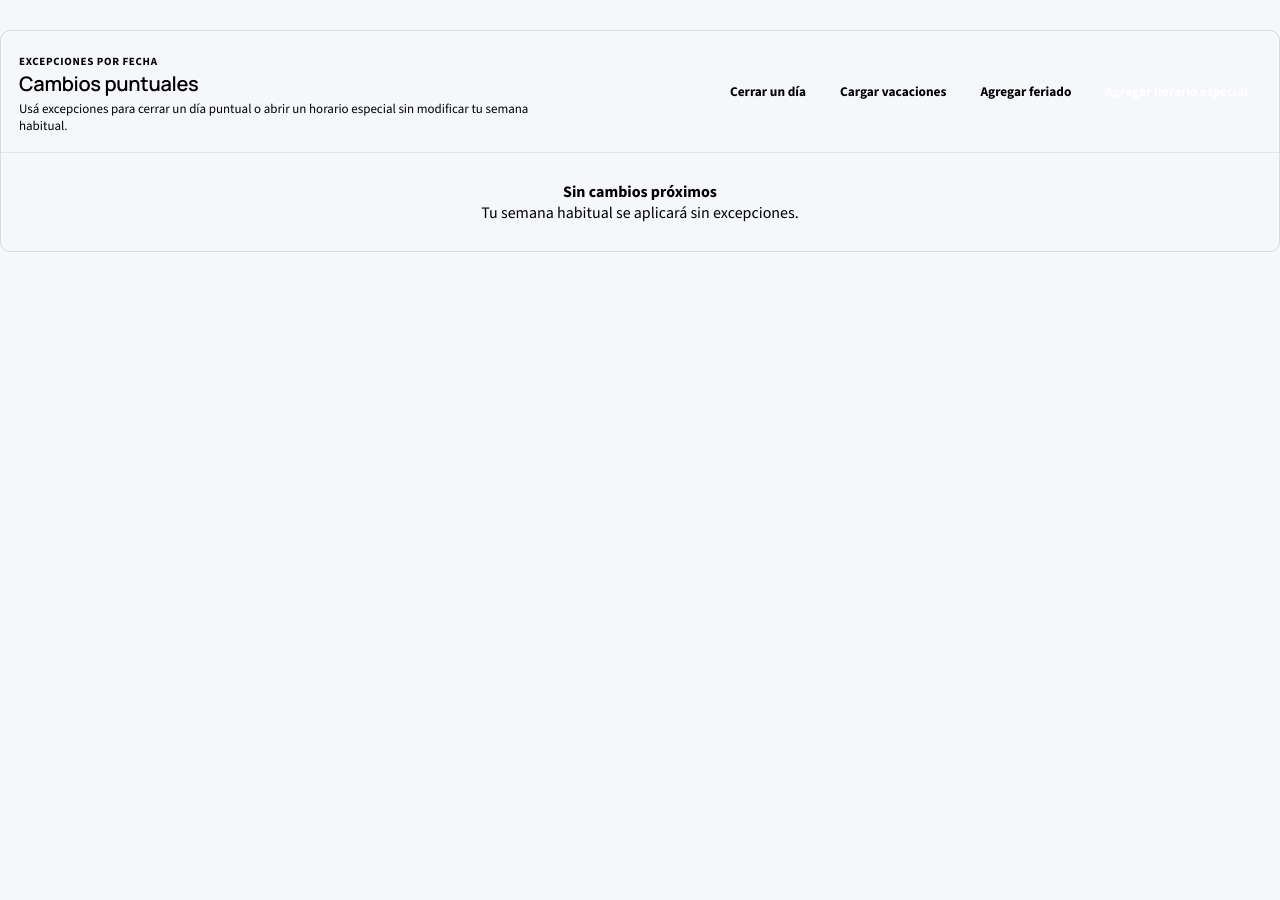
Test case: excepciones de disponibilidad › abre vacaciones, valida fechas y calcula la cantidad de días
The width and height of the screenshot is (1280, 900).
Expected: the text "Sin cambios próximos" is shown, [563,181,717,202]
Click the button "Cargar vacaciones" at (893,92), box [827,72,959,112]
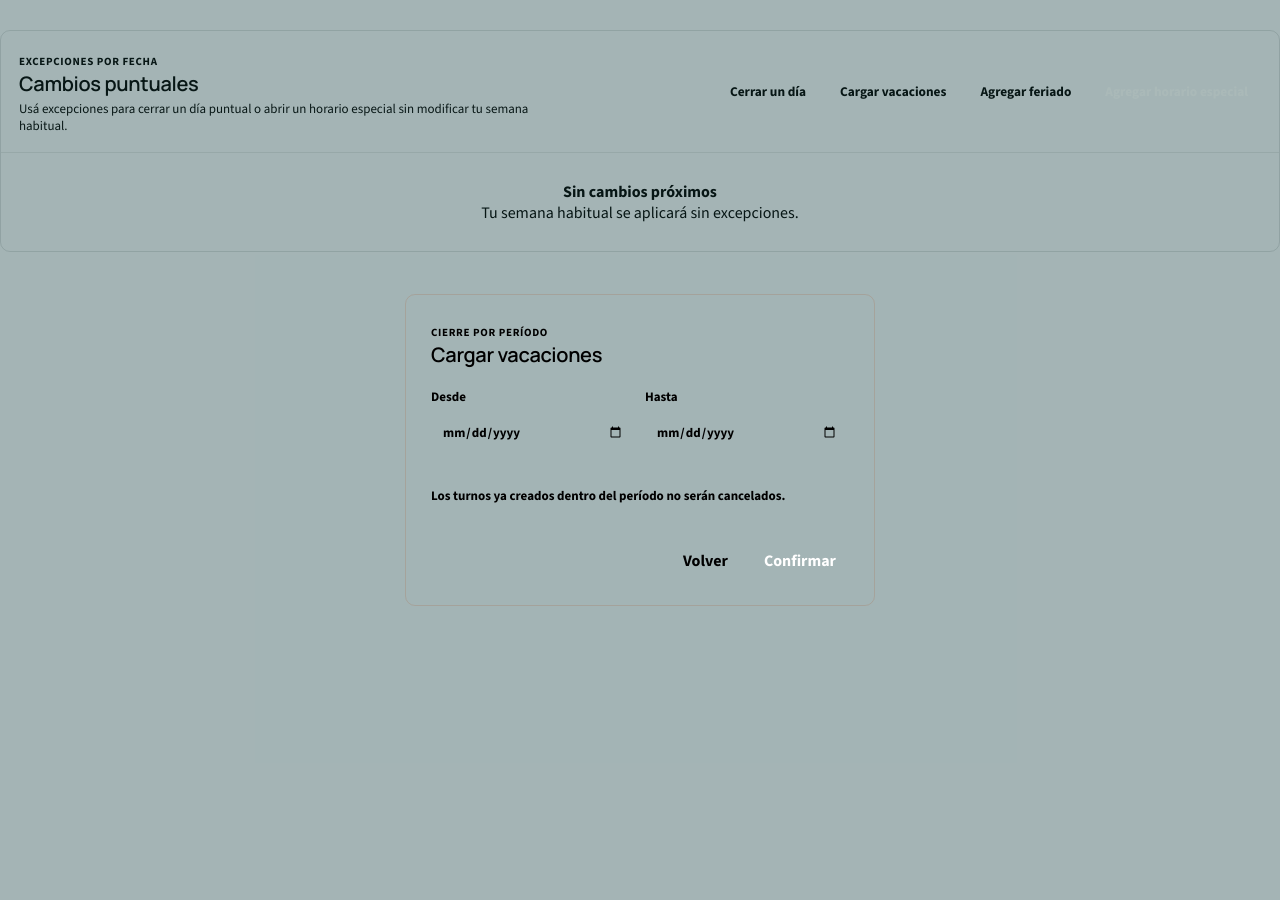
Click the button "Confirmar" at (800,560), box [751,540,849,580]
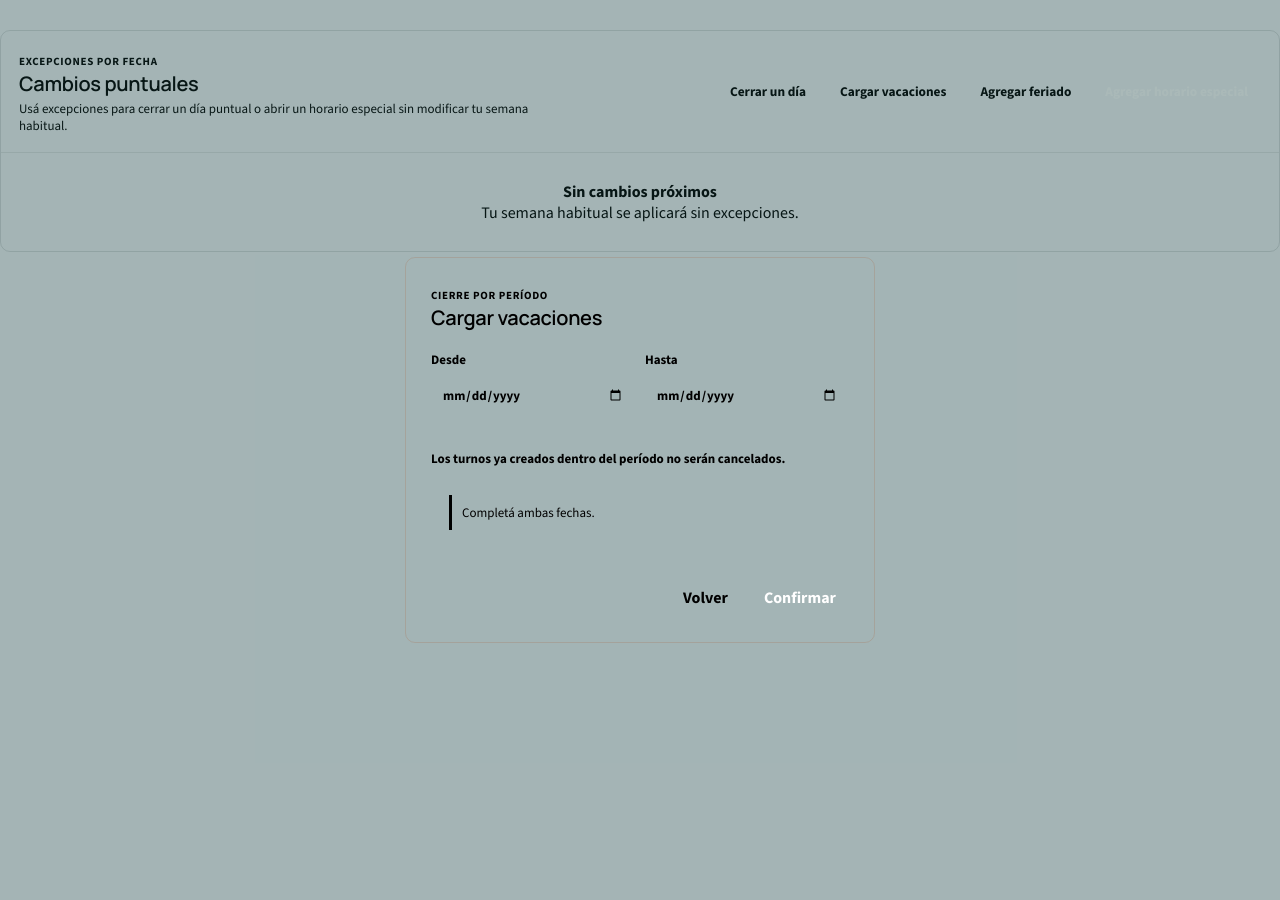
Result: the message shows "ambas fechas" at [462,504,595,521]
Type "2026-09-12" into the date field named "Fecha desde" at (533,396), box [431,374,635,418]
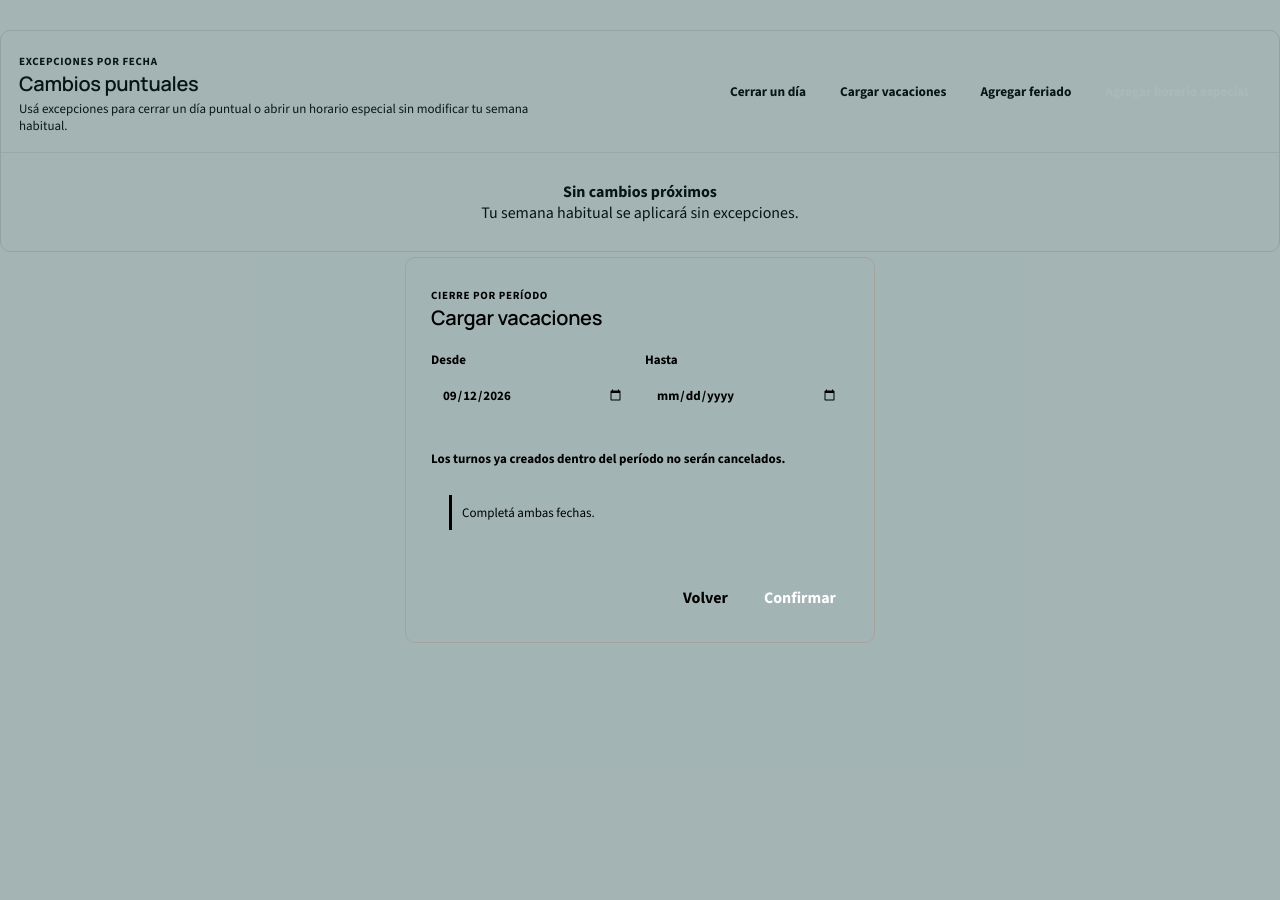
Type "2026-09-20" into the date field named "Fecha hasta" at (747,396), box [645,374,849,418]
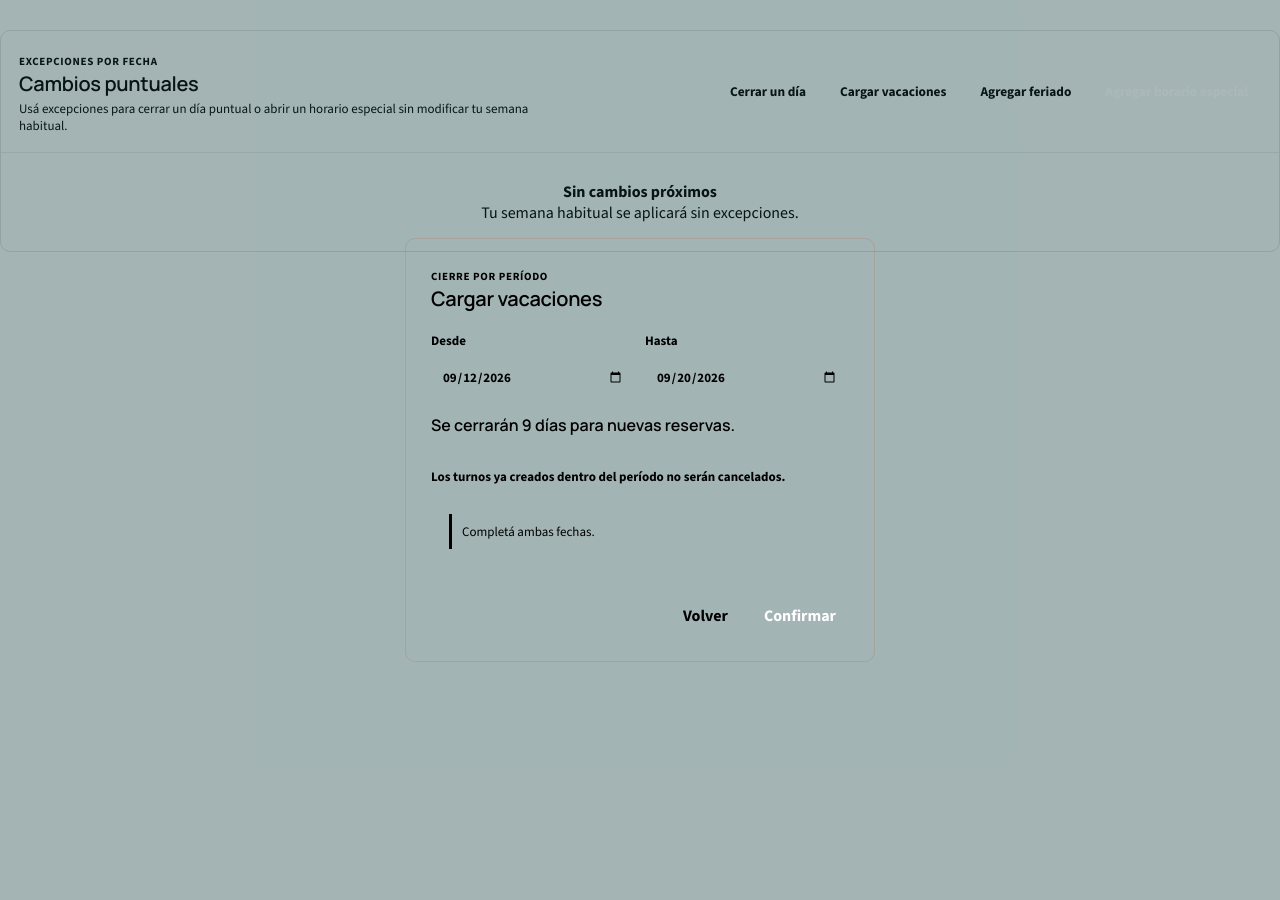
Result: the dialog "Cargar vacaciones" shows "no serán cancelados" at [431,468,785,485]
Result: the text "Se cerrarán 9 días para nuevas reservas." is shown at [431,414,735,436]
